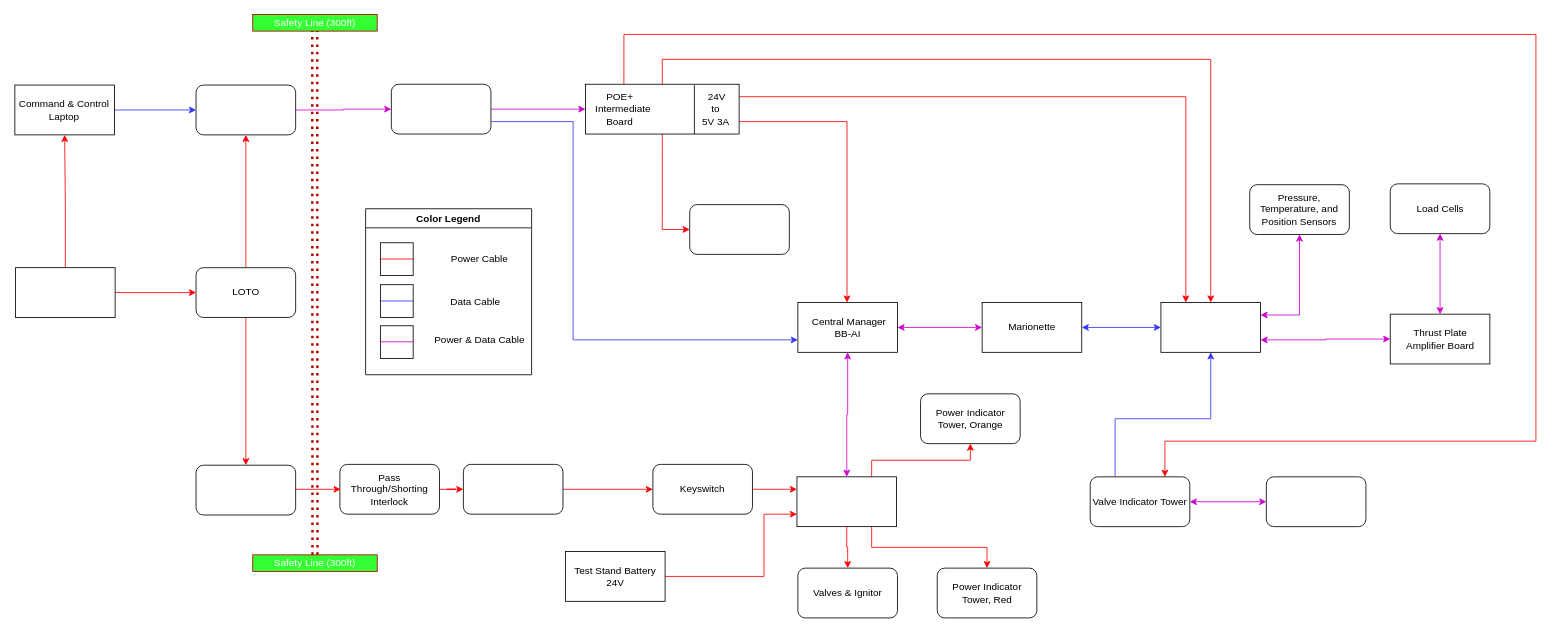
This 1557x632 diagram has some shape labels left out. The centre of each missing label's shape, as x and y in pixels:
"Actuator Controller" goes at pixel 846 501.
"Main Battery w/200W Inverter" goes at pixel 65 292.
"POE Injector 12V" goes at pixel 245 489.
"POE Splitter 12V" goes at pixel 513 489.
"POE+ Injector 24V" goes at pixel 245 109.
"POE+ Splitter 24V" goes at pixel 441 108.
"Power Indicator Tower, Green" goes at pixel 739 229.
"Sensor Front End Board" goes at pixel 1210 327.
"Valve Position Sensors" goes at pixel 1316 501.
